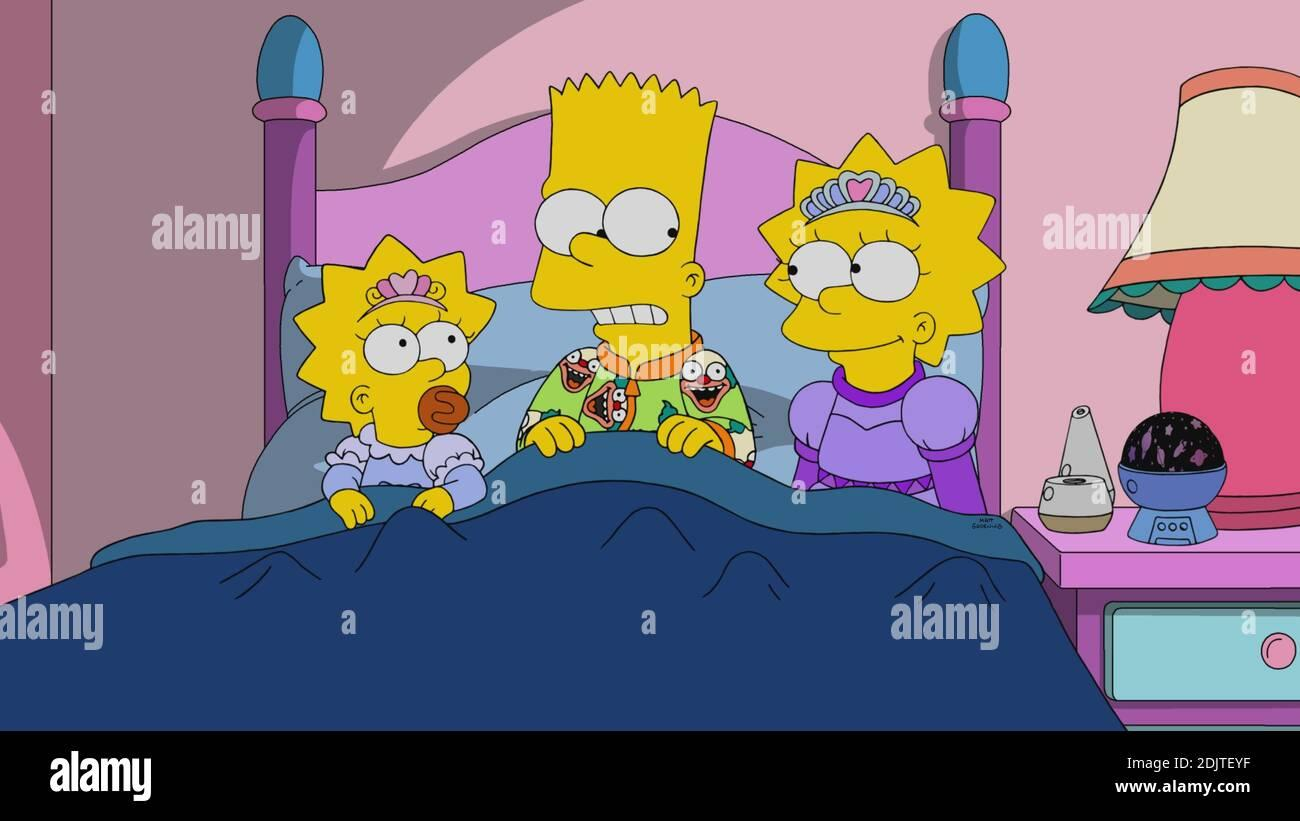Bart: (517, 50, 777, 513)
Lisa: (742, 130, 1025, 535)
Maggie: (257, 230, 510, 555)
